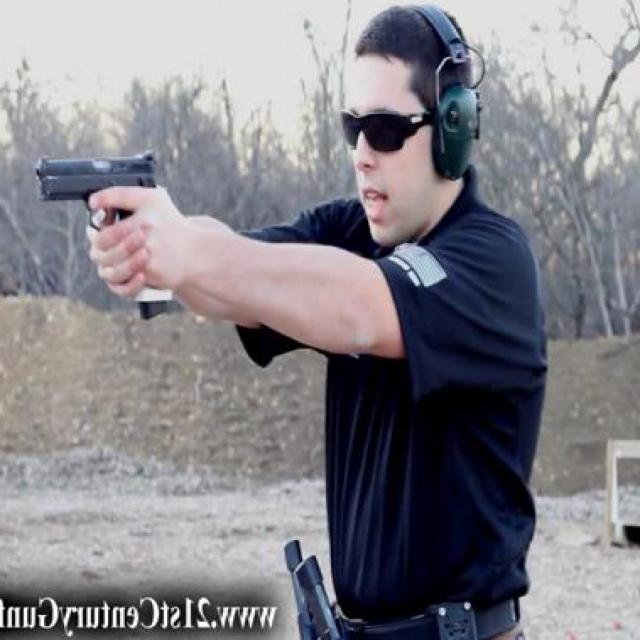Gun: (36, 146, 180, 318)
